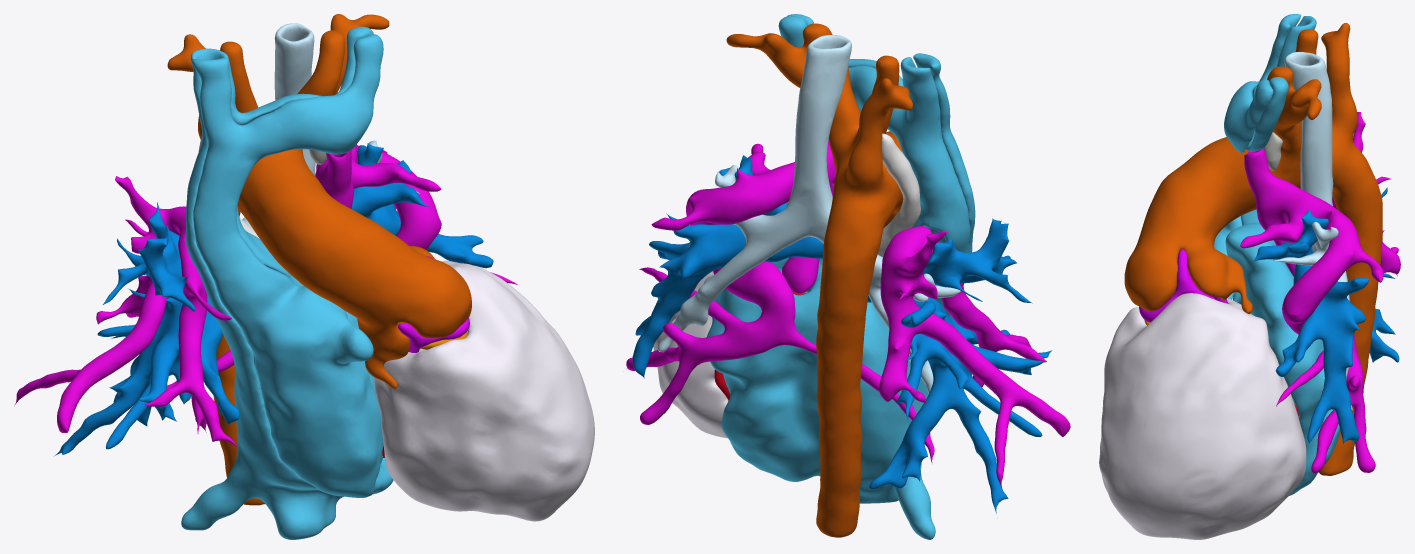
File: Post 2 BTs.gltf
3 views of the same model, side by side, from view 1: azimuth 30°, elevation 25°; view 2: azimuth 150°, elevation 25°; view 3: azimuth 270°, elevation 25° (orthographic). The views are drawn at different scales.
Visible parts, largest first — view 1: resected, muscle, aorta, pulmonary veins, atrium, pa, trachea, aov; view 2: atrium, pulmonary veins, aorta, pa, trachea, muscle, resected, recent bts; view 3: muscle, aorta, pulmonary veins, atrium, pa, trachea, resected, aov, prev bts.
Boxes of the visible parts, x1,y1,x2,y2 form: resected: [193, 34, 383, 497]; muscle: [373, 260, 594, 521]; aorta: [167, 14, 471, 505]; pulmonary veins: [14, 144, 517, 447]; atrium: [181, 26, 393, 539]; pa: [55, 143, 493, 455]; trachea: [169, 23, 419, 375]; aov: [398, 255, 469, 352]; atrium: [707, 15, 970, 539]; pulmonary veins: [626, 140, 1070, 488]; aorta: [726, 23, 912, 537]; pa: [627, 155, 1052, 513]; trachea: [657, 35, 960, 393]; muscle: [653, 202, 807, 438]; resected: [787, 14, 975, 319]; recent bts: [878, 133, 920, 257]; muscle: [1099, 293, 1306, 539]; aorta: [1124, 23, 1382, 475]; pulmonary veins: [1240, 112, 1400, 472]; atrium: [1225, 16, 1340, 495]; pa: [1252, 187, 1399, 443]; trachea: [1273, 52, 1352, 410]; resected: [1214, 14, 1301, 299]; aov: [1139, 249, 1228, 322]; prev bts: [1263, 132, 1288, 223].
Bounding box in the file's own units: 111 × 110 × 71.34.
